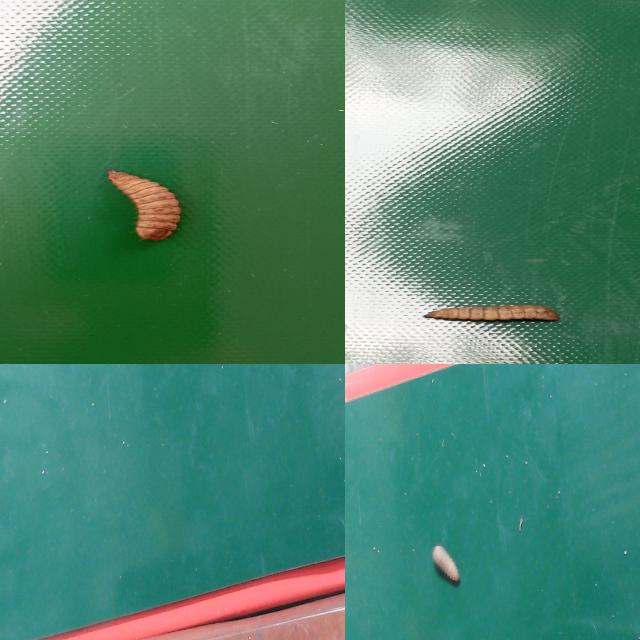Maggot: (107, 171, 184, 244), (426, 307, 561, 323), (430, 545, 461, 588)
